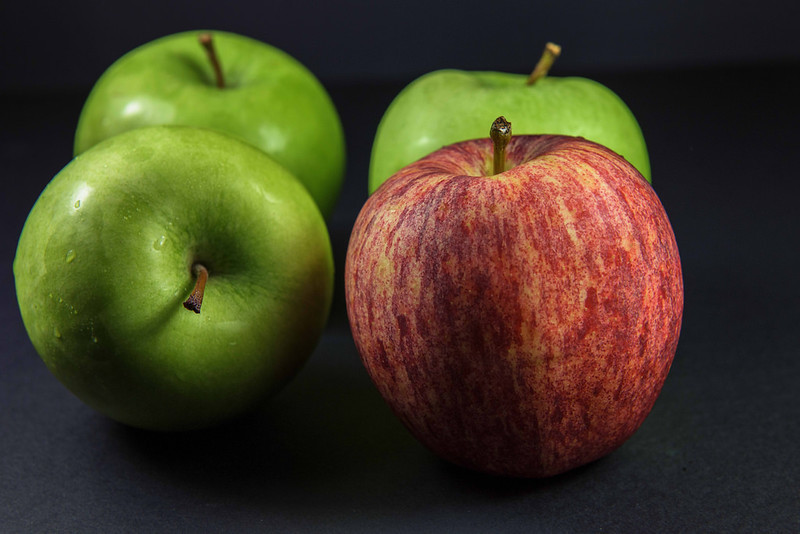apple: (341, 131, 690, 488)
